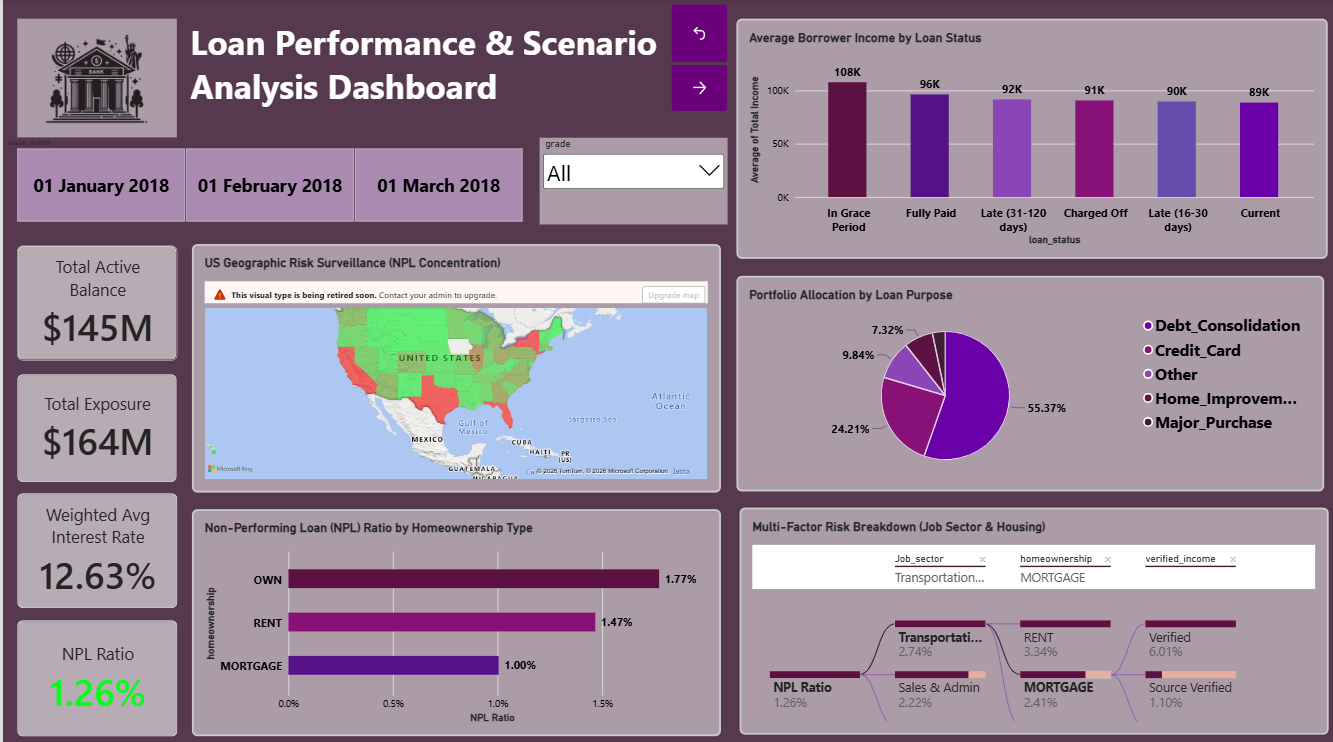

What the dashboard file says about the page in this screenshot:
{"tool":"powerbi","page":{"name":"Page 1","canvas":[1920,1080],"ordinal":0},"visuals":[{"type":"cardVisual","fields":{"Data":["loans_full_schema.Total Active Balance"]},"box":[20,355,230,165],"z":0},{"type":"cardVisual","fields":{"Data":["loans_full_schema.Total Exposure"]},"box":[20,540,229.6,155.6],"z":1000},{"type":"cardVisual","fields":{"Data":["loans_full_schema.Weighted Avg Interest Rate"]},"box":[20,712.5,230,165],"z":2000},{"type":"cardVisual","fields":{"Data":["loans_full_schema.NPL Ratio"]},"box":[20,895,230,167.5],"z":3000},{"type":"clusteredColumnChart","title":"Average Borrower Income by Loan Status","fields":{"Category":["loans_full_schema.loan_status"],"Y":["Avg(loans_full_schema.Total Income)"]},"box":[1055,30,850,345],"z":4000},{"type":"decompositionTreeVisual","title":"Multi-Factor Risk Breakdown (Job Sector & Housing)","fields":{"Analyze":["loans_full_schema.NPL Ratio"],"ExplainBy":["loans_full_schema.Job_sector","loans_full_schema.homeownership","loans_full_schema.verified_income"]},"box":[1058.6,732.1,846.9,326.5],"z":5000},{"type":"clusteredBarChart","title":"Non-Performing Loan (NPL) Ratio by Homeownership Type","fields":{"Category":["loans_full_schema.homeownership"],"Y":["loans_full_schema.NPL Ratio"]},"box":[270.4,734.7,760.2,326.5],"z":6000},{"type":"filledMap","title":"US Geographic Risk Surveillance (NPL Concentration)","fields":{"Category":["Dim_Geography.State_Full"]},"box":[270.4,354.6,760.2,357.1],"z":7000},{"type":"textbox","box":[270,30,690,170],"z":9000},{"type":"slicer","fields":{"Values":["loans_full_schema.issue_month"]},"box":[0,201.5,765.3,122.4],"z":10000},{"type":"slicer","fields":{"Values":["loans_full_schema.grade"]},"box":[770.4,201.5,270.4,125],"z":11000},{"type":"pieChart","title":"Portfolio Allocation by Loan Purpose","fields":{"Category":["loans_full_schema.loan_purpose"],"Y":["CountNonNull(loans_full_schema.homeownership)"]},"box":[1055,400,845,310],"z":12000},{"type":"image","box":[20,30,229.6,170.9],"z":12001},{"type":"actionButton","box":[960,10,80,83.3],"z":12002},{"type":"actionButton","box":[960,96.7,80,66.7],"z":12003}]}

Visuals, with their boxes in screenshot pixels (x1, y1, x2, y2), scaled from the page's 1920x1080 canvas onto the 1333x742 screenshot:
cardVisual - loans_full_schema.Total Active Balance: (14,244,174,357)
cardVisual - loans_full_schema.Total Exposure: (14,371,173,478)
cardVisual - loans_full_schema.Weighted Avg Interest Rate: (14,490,174,603)
cardVisual - loans_full_schema.NPL Ratio: (14,615,174,730)
"Average Borrower Income by Loan Status" clusteredColumnChart: (732,21,1323,258)
"Multi-Factor Risk Breakdown (Job Sector & Housing)" decompositionTreeVisual: (735,503,1323,727)
"Non-Performing Loan (NPL) Ratio by Homeownership Type" clusteredBarChart: (188,505,716,729)
"US Geographic Risk Surveillance (NPL Concentration)" filledMap: (188,244,716,489)
textbox: (187,21,666,137)
slicer - loans_full_schema.issue_month: (0,138,531,223)
slicer - loans_full_schema.grade: (535,138,723,224)
"Portfolio Allocation by Loan Purpose" pieChart: (732,275,1319,488)
image: (14,21,173,138)
actionButton: (666,7,722,64)
actionButton: (666,66,722,112)
